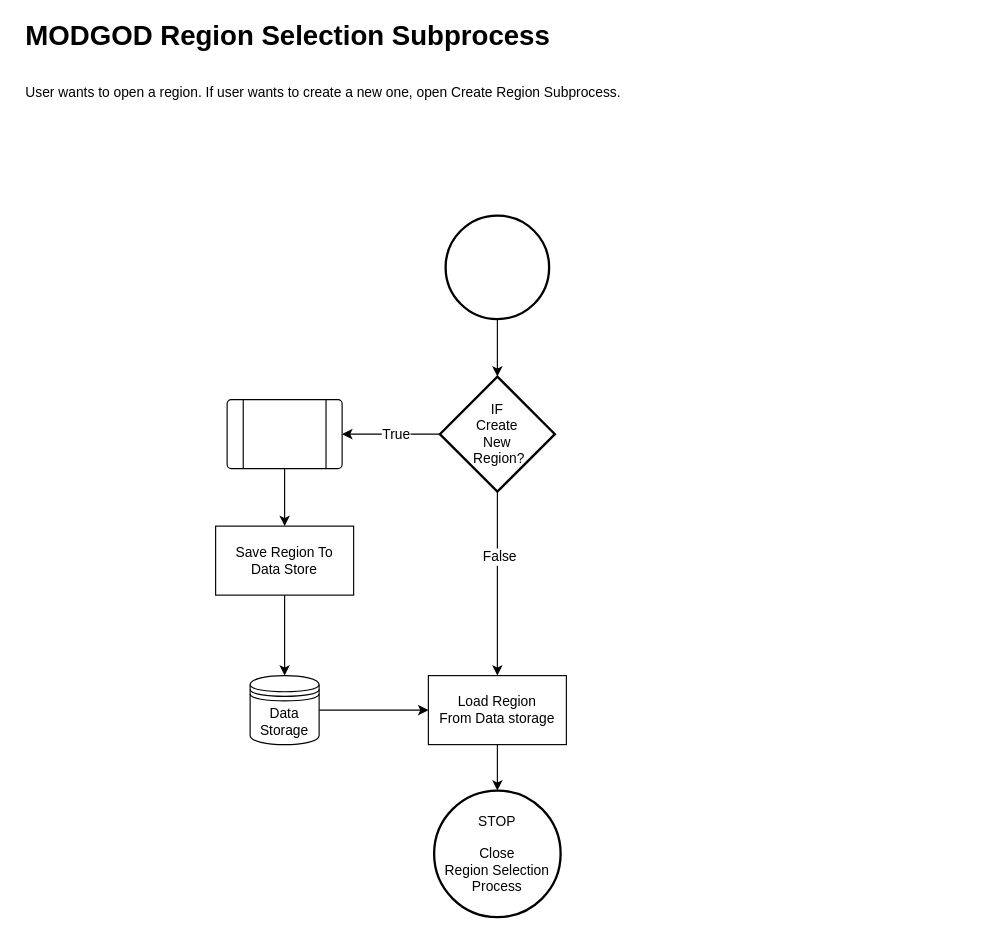
Image size: 994x937. Some labels were removed from this diagram. Here are the shapes that lost their labels. From the top down, the box of each, then its label:
(444, 214, 550, 320): START Open Region
(226, 398, 342, 469): Create Region Subprocess
